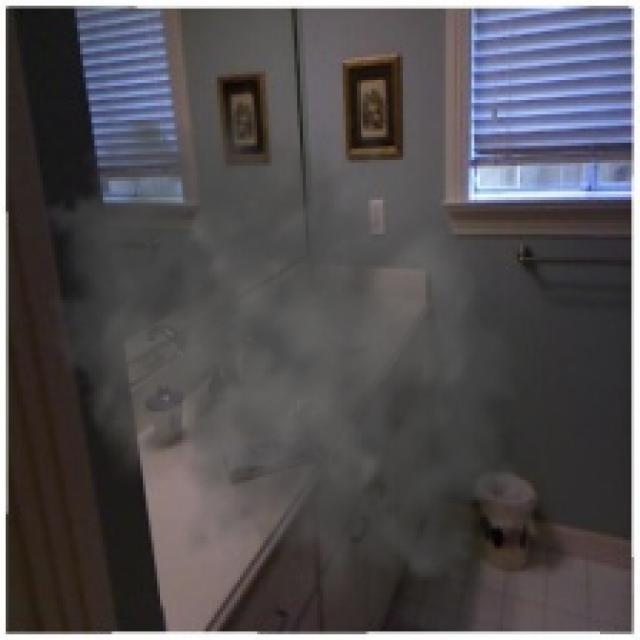Smoke: (8, 74, 560, 623)
